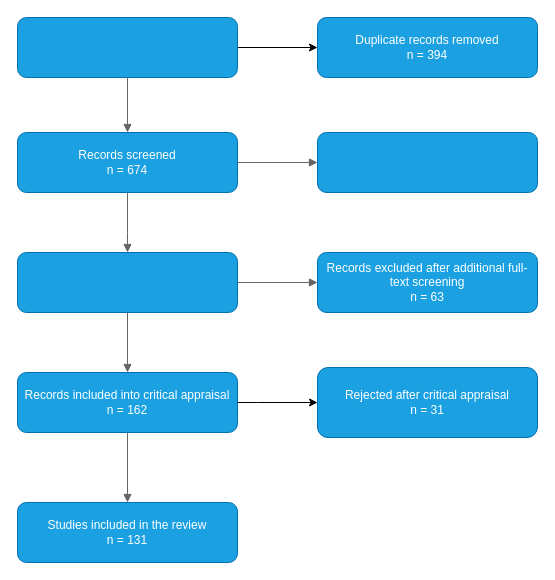
Some shapes in this 555 by 580 pixel diagram are drawn without their labels. Each missing label, with the centre of its shape:
"Records excluded after metadata and abstract screening n = 449" goes at (x=427, y=162).
"Records identified from databases n = 1068" goes at (x=127, y=47).
"Records included after metadata and abstract screening n = 225" goes at (x=127, y=282).
